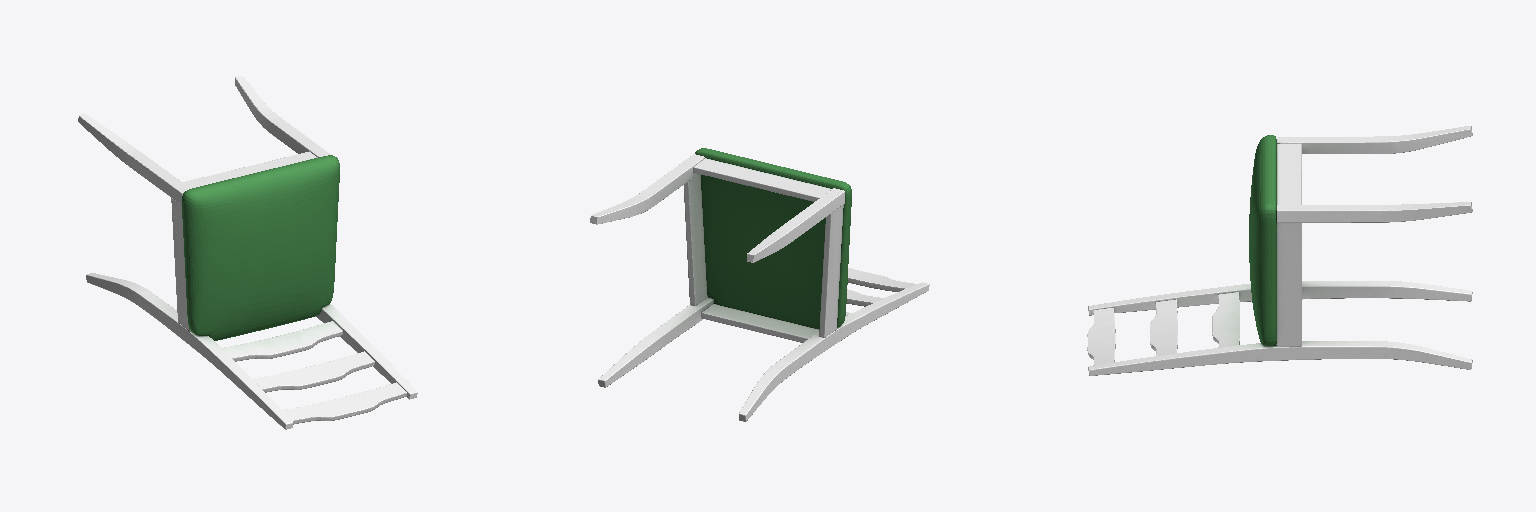
3 renders of one model, left to right at view 1: azimuth 30°, elevation 25°; view 2: azimuth 150°, elevation 25°; view 3: azimuth 270°, elevation 25°, orthographic.
Bounding box in the file's own units: 0.409 × 0.4334 × 0.8337.
Materials: 1 (1 with a texture image).